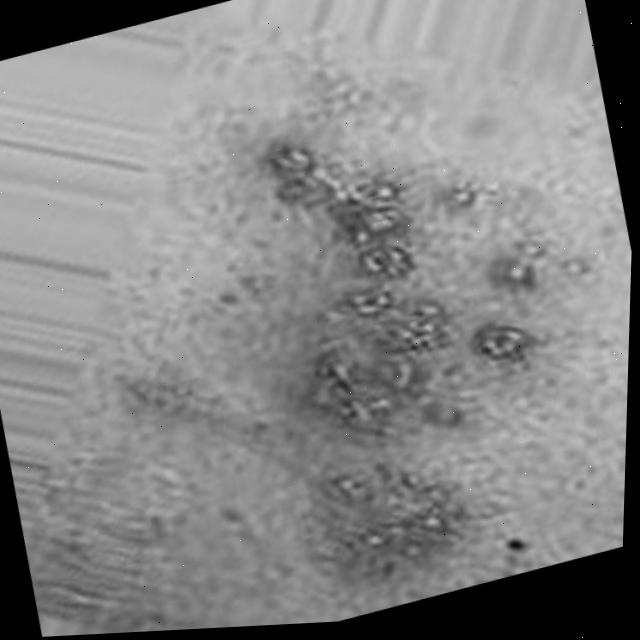Shingles: (228, 95, 581, 579)
